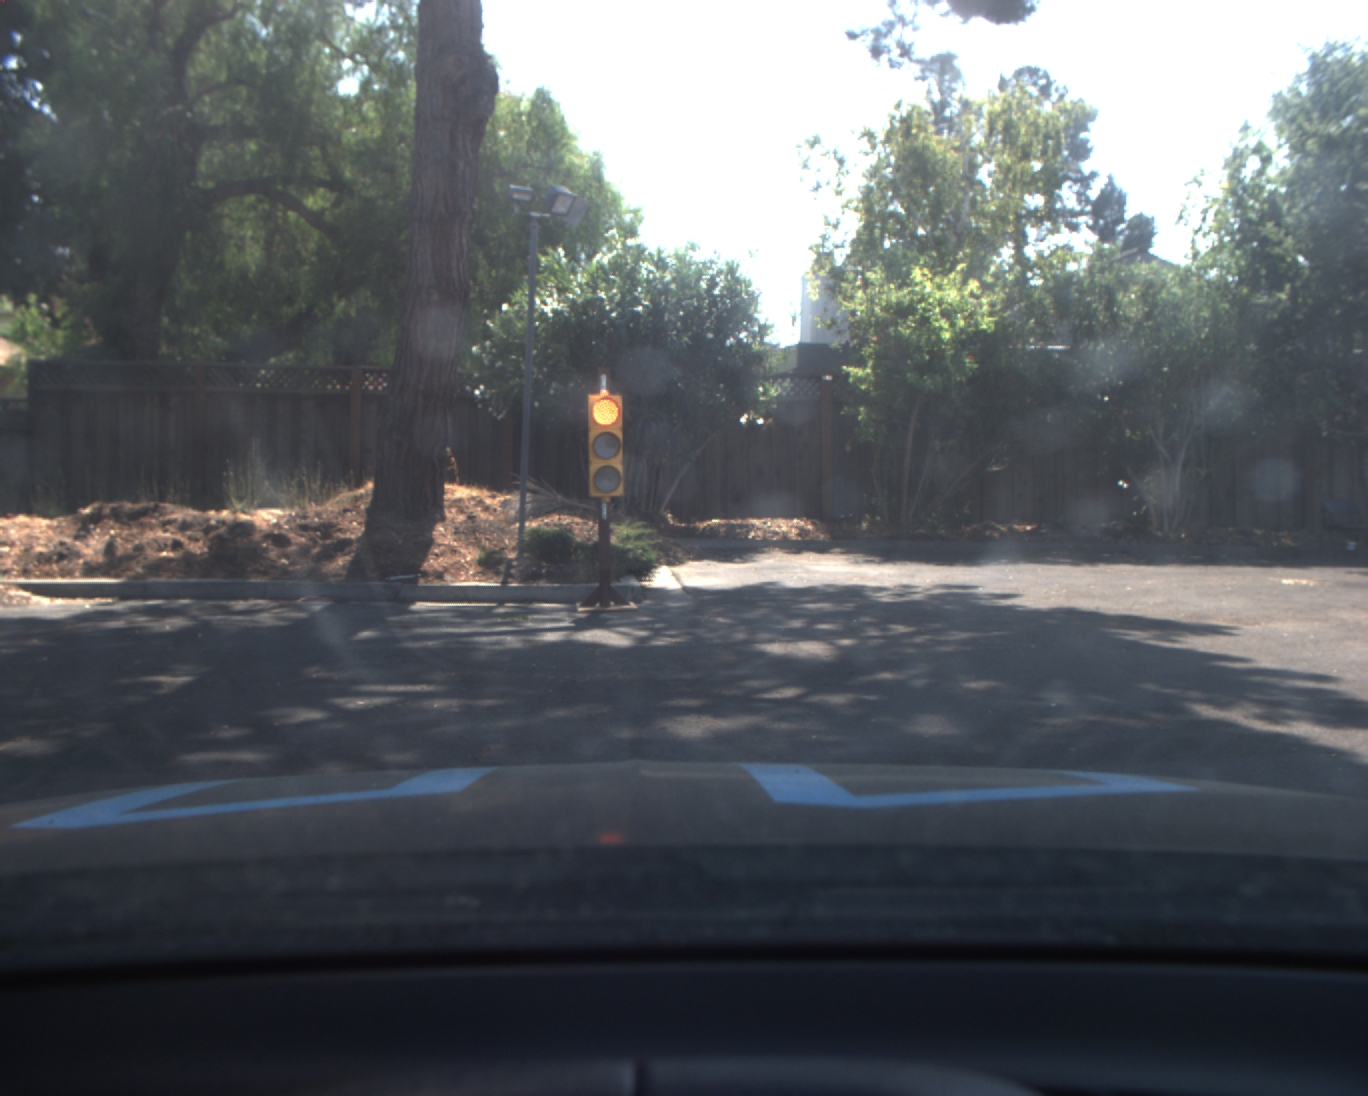red: (585, 394, 632, 499)
